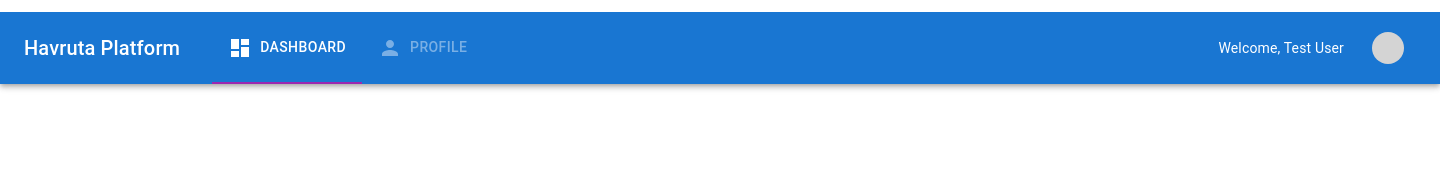
Test case: Header Component › When user is authenticated › opens user menu when avatar is clicked
Click the button named "account of current user".
click(1388, 48)  # box [1360,20,1416,76]
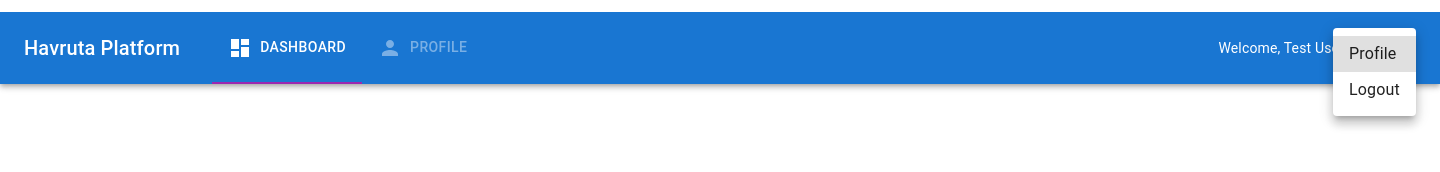
Result: the menu item "Profile" is shown at [1333,36,1416,72]
Result: the menu item "Logout" is shown at [1349,80,1400,99]
